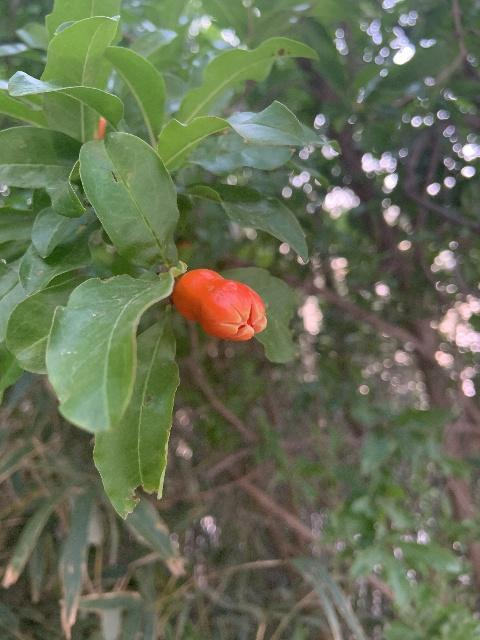bud: (171, 268, 266, 342)
